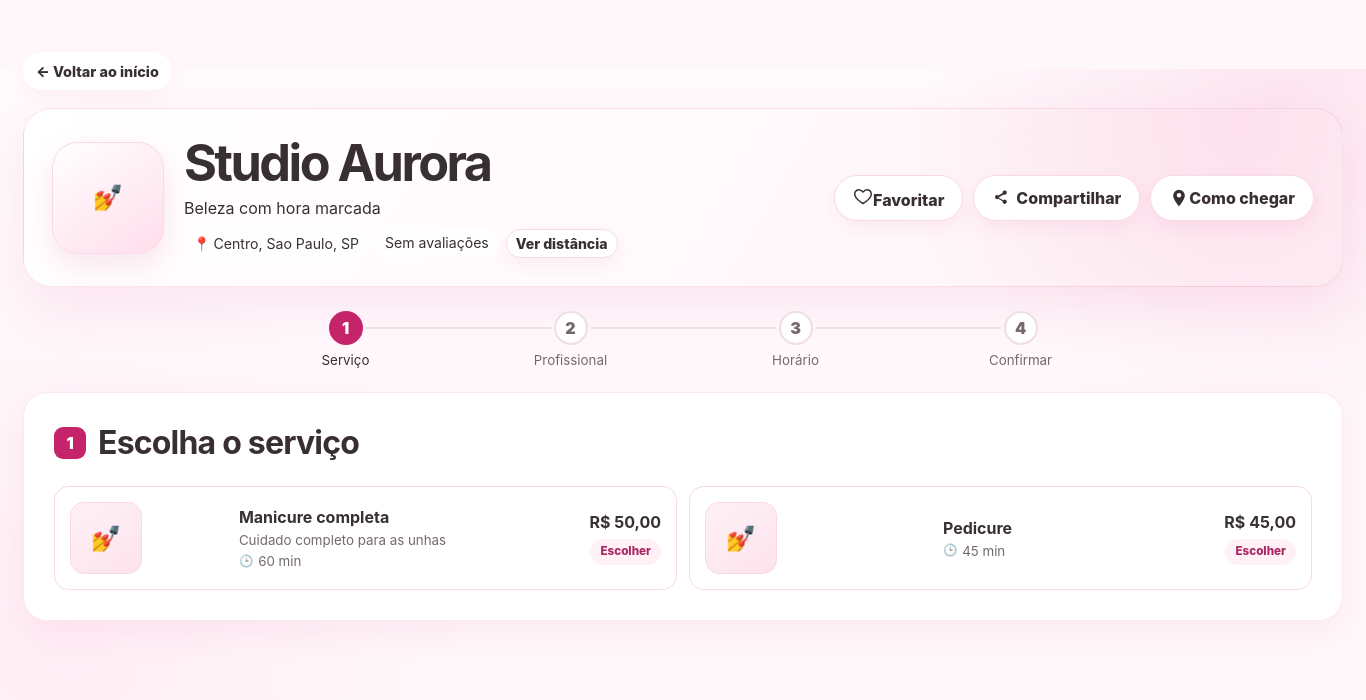
it: fluxo publico de agendamento › oculta o resumo até a cliente escolher um serviço
Expected: the heading "Studio Aurora" is shown, x1=184 y1=132 x2=491 y2=193
Expected: the heading "Resumo" is not shown
Click the button with aria-label "Selecionar Manicure completa". click: {"x": 366, "y": 538}
box: x1=55 y1=487 x2=676 y2=589
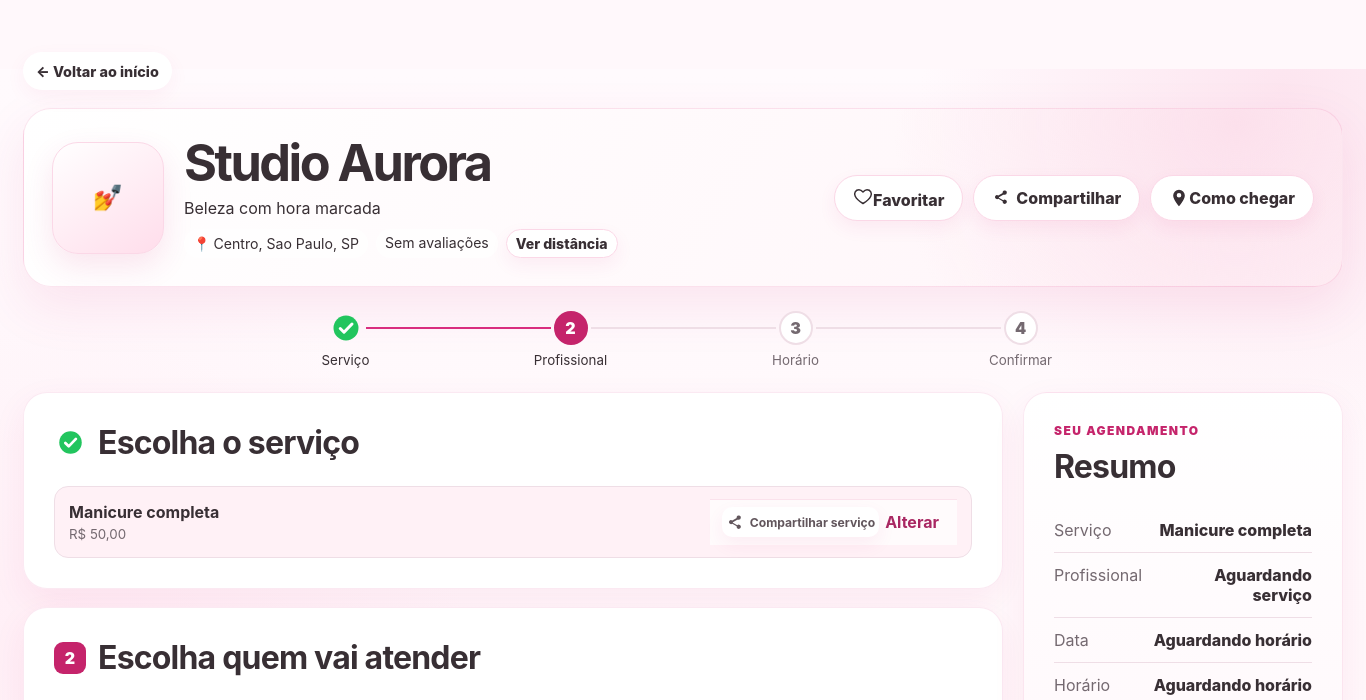
Expected: the heading "Resumo" is shown, x1=1054 y1=447 x2=1176 y2=486
